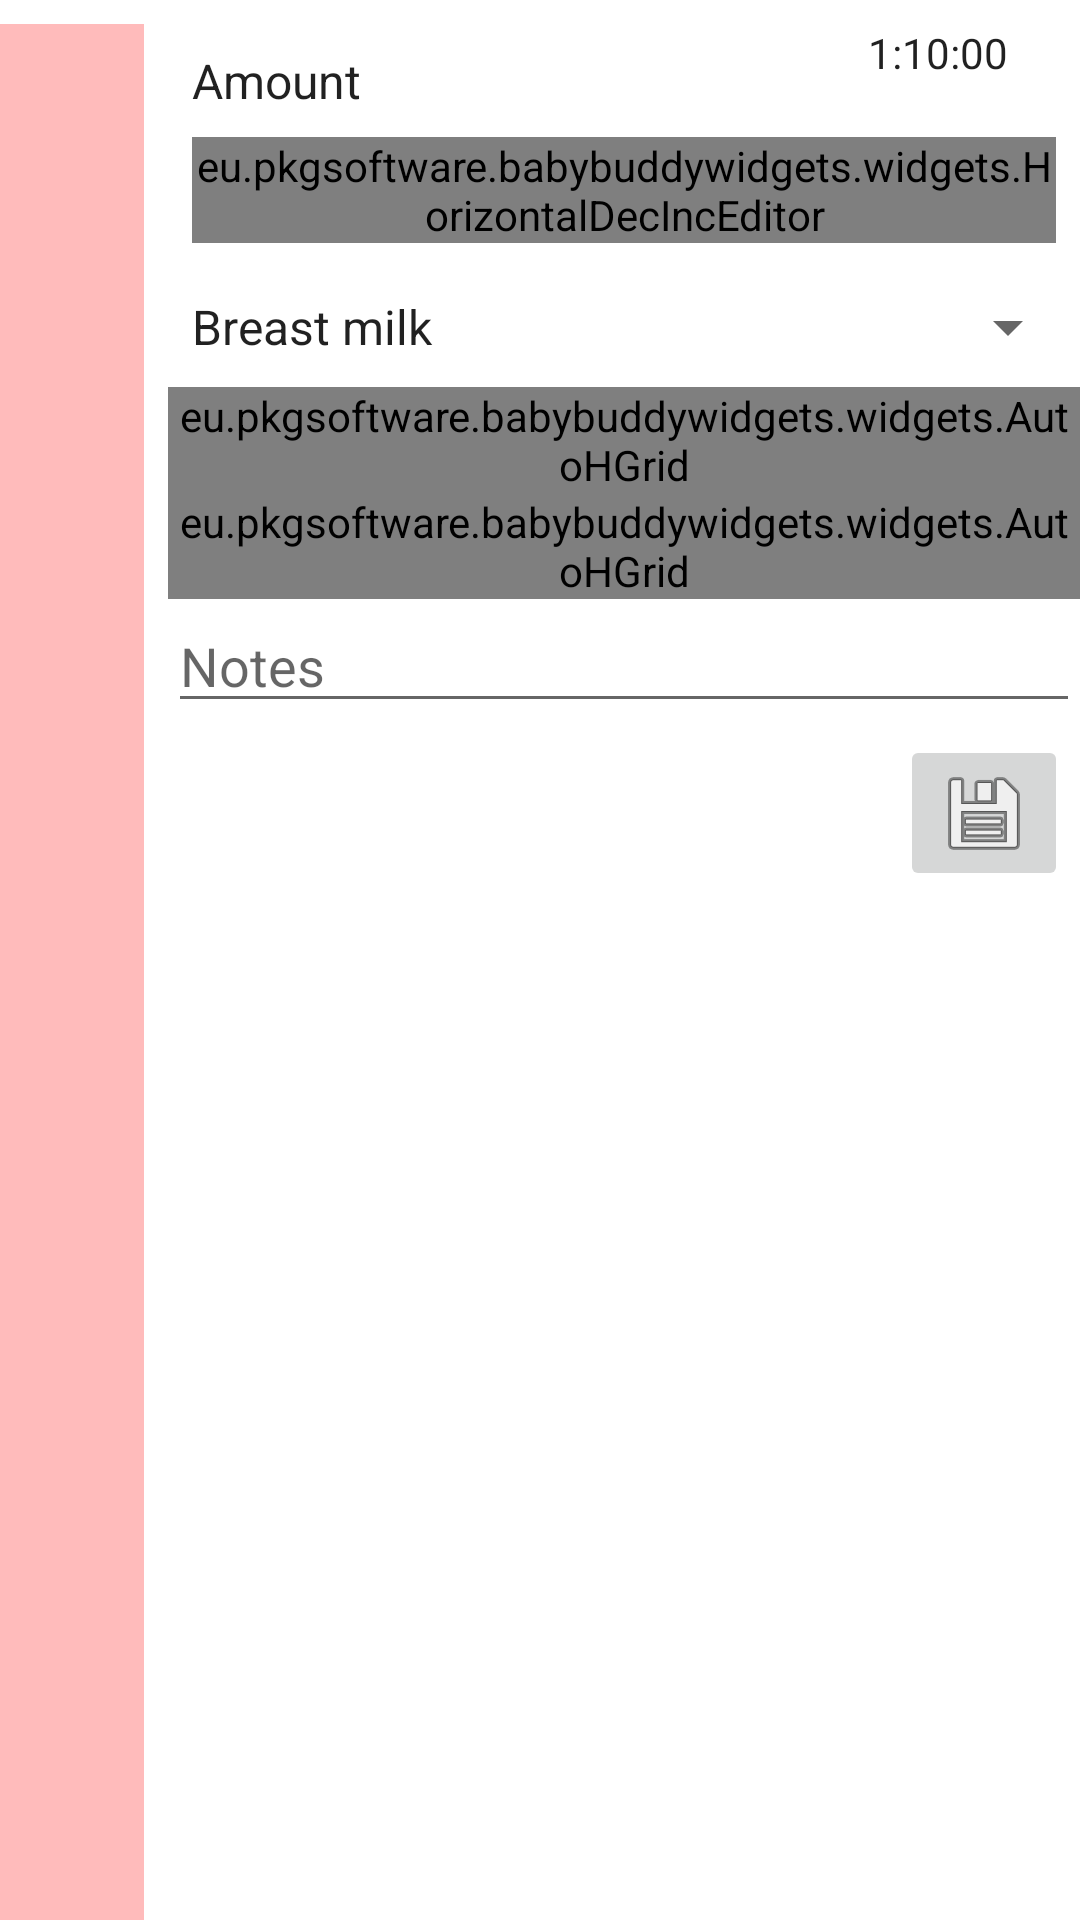

Icon click points for this 1080*1920 phone screenshot, format [x,y]:
save: [984,813]
